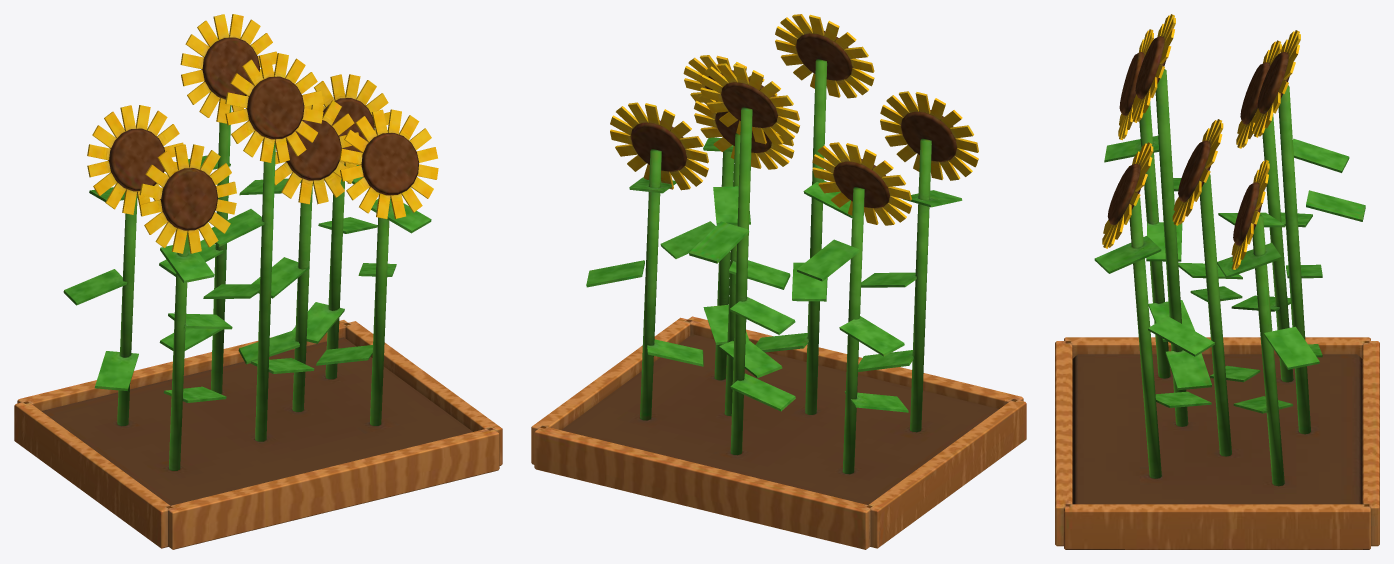
File: sunflower_patch.glb
The picture shows the model from 3 angles, left to right: view 1: azimuth 30°, elevation 25°; view 2: azimuth 150°, elevation 25°; view 3: azimuth 270°, elevation 25°; orthographic projection. The views are drawn at different scales.
Visible parts, largest first — view 1: sunflower_patch; view 2: sunflower_patch; view 3: sunflower_patch.
Boxes of the visible parts, <box> form: sunflower_patch: <box>14,14,502,549</box>; sunflower_patch: <box>531,14,1026,549</box>; sunflower_patch: <box>1055,14,1379,549</box>.
Bounding box in the file's own units: 0.94 × 1.1 × 0.74.
1 material, 1 textured.
